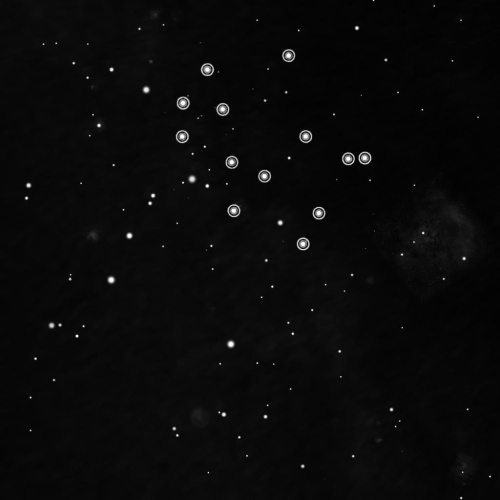gemini: (171, 48, 375, 255)
